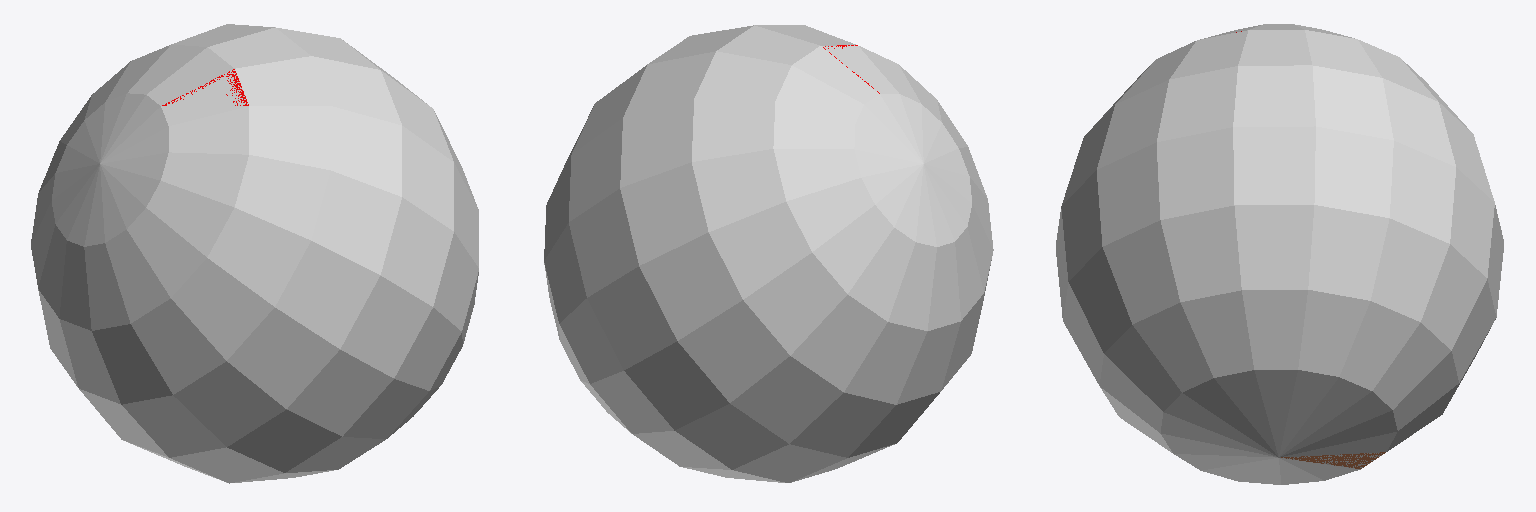
Rendered from Mushroom.obj.
The picture shows the model from 3 angles: view 1: azimuth 30°, elevation 25°; view 2: azimuth 150°, elevation 25°; view 3: azimuth 270°, elevation 25°; orthographic projection.
Visible parts, largest first — view 1: Sphere002; view 2: Sphere002; view 3: Sphere002, Cylinder001.
Part boxes in pixels (left/top/right/bottom): Sphere002: left=31, top=24, right=478, bottom=483; Sphere002: left=544, top=25, right=993, bottom=482; Sphere002: left=1056, top=24, right=1503, bottom=484; Cylinder001: left=1281, top=452, right=1385, bottom=468.
Size of the model in its own units: 66.03 by 67.56 by 65.87.